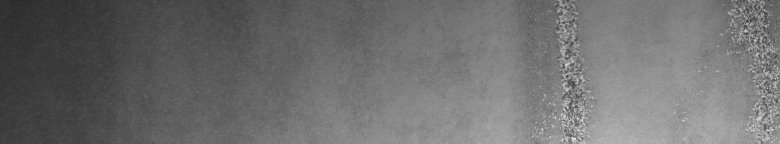hc: (682, 4, 776, 136)
